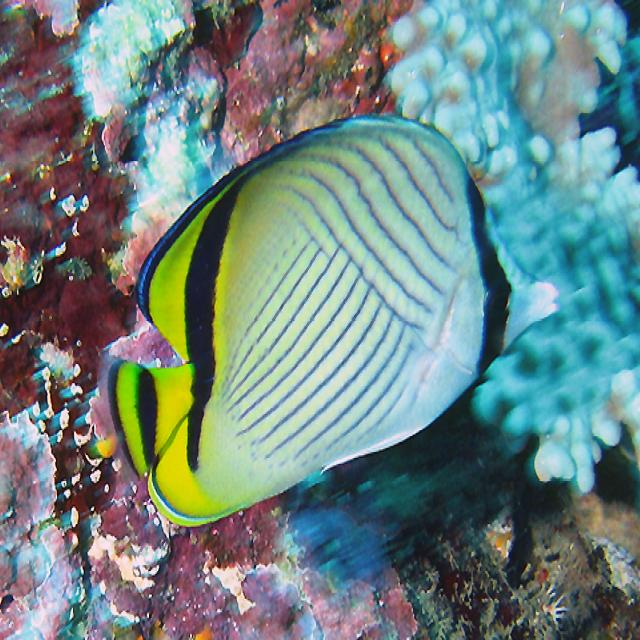ButterflyFish: (100, 116, 557, 528)
